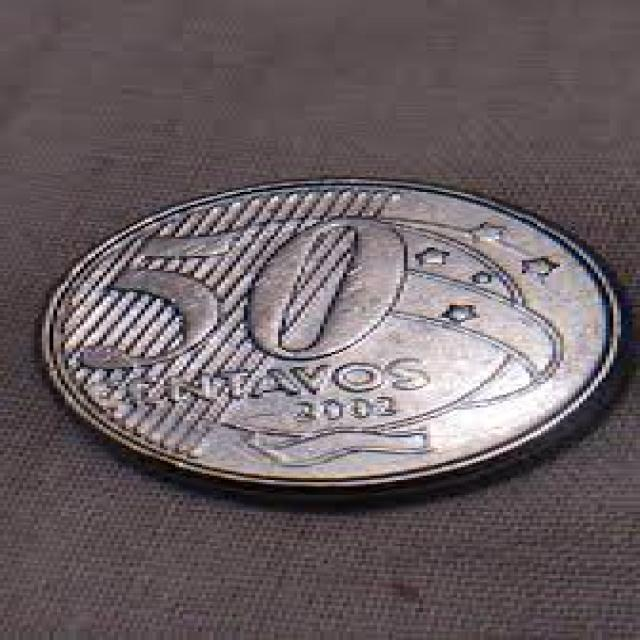50 cent: (34, 177, 634, 502)
